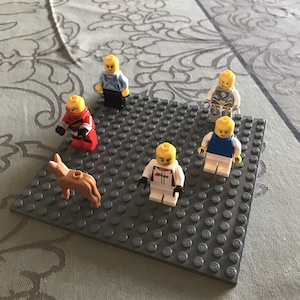Lego: (140, 140, 187, 208), (195, 117, 243, 177), (57, 95, 98, 151), (204, 69, 241, 127), (96, 52, 129, 108)
